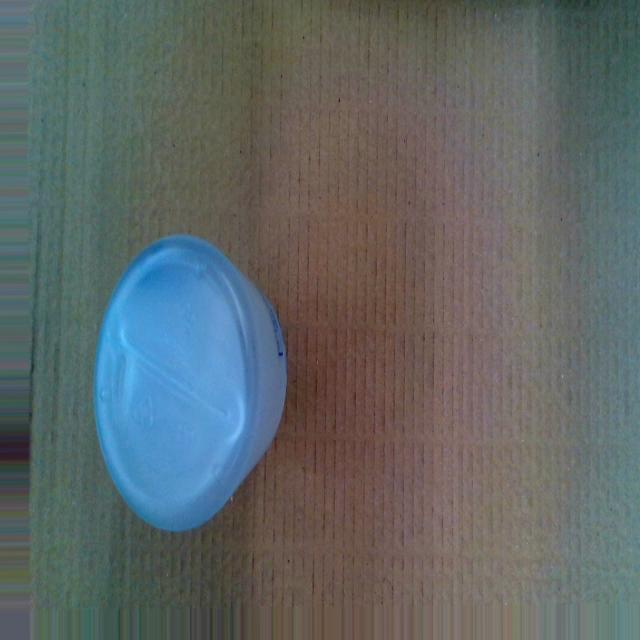bottle: (90, 229, 289, 538)
